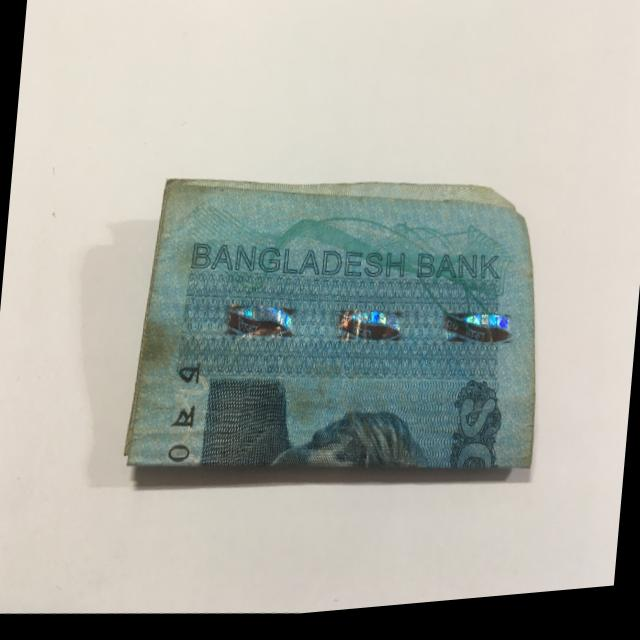Taka: (121, 140, 561, 524)
